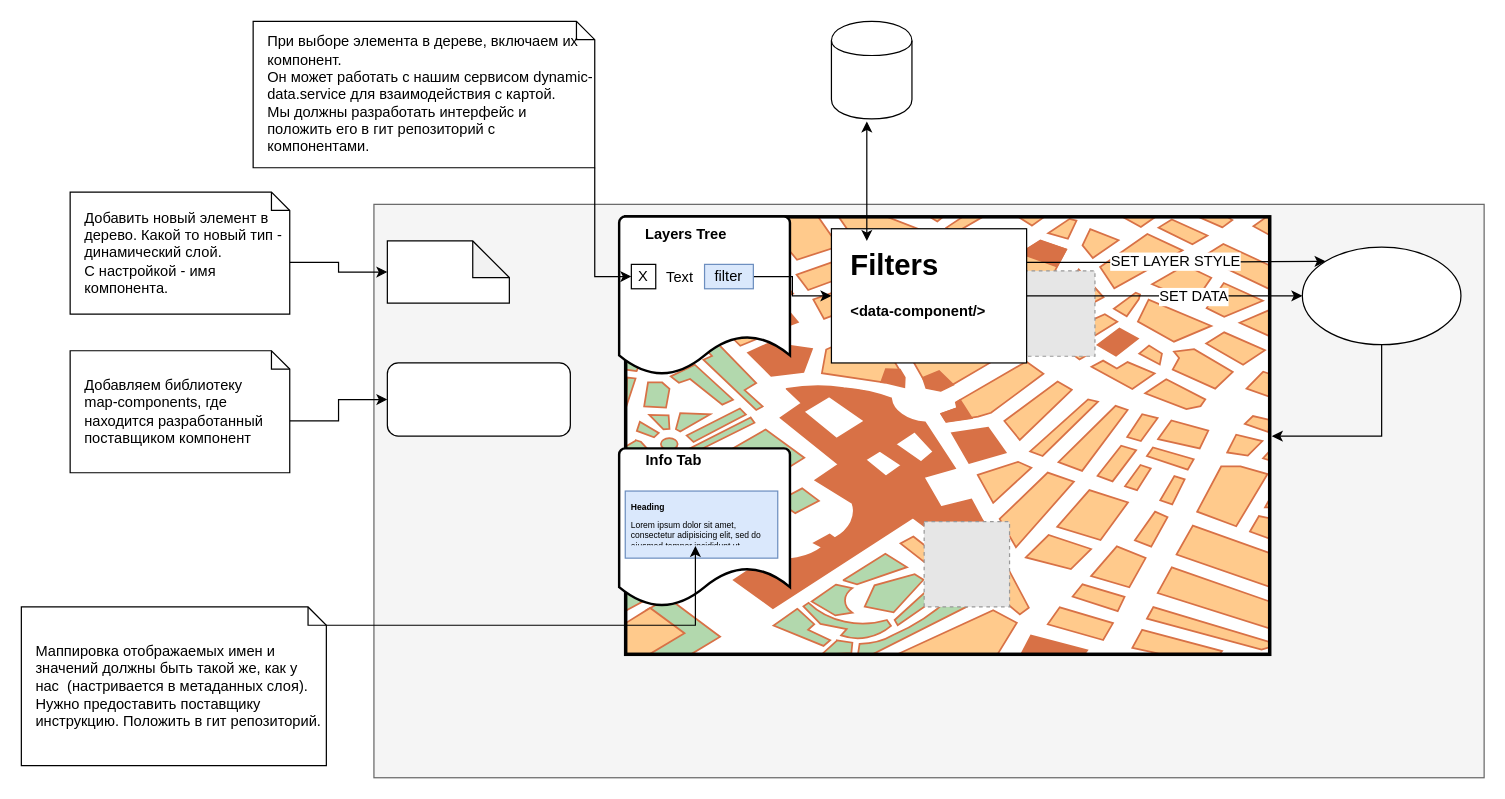
The diagram is 1505 pixels wide and 799 high, and some of its shapes have lost their labels. Grey dashed boxes stand in for pictures. The centre of each missing label's shape, as x and y in pixels:
"dynamic-data.service" goes at point (1381, 295).
"map-components.module" goes at point (478, 399).
"Style.json" goes at point (447, 271).
"Telemetry Server" goes at point (871, 69).
